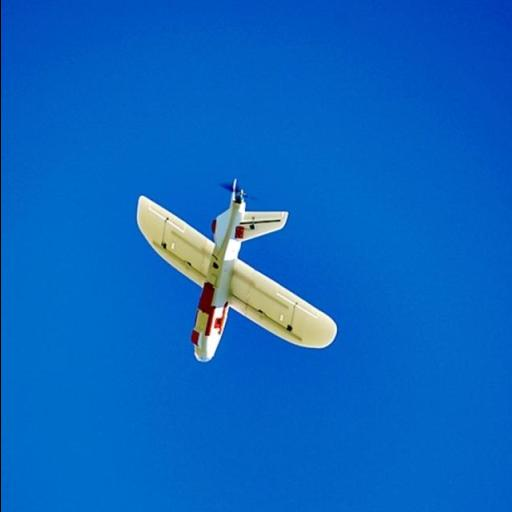uav: (126, 176, 336, 364)
